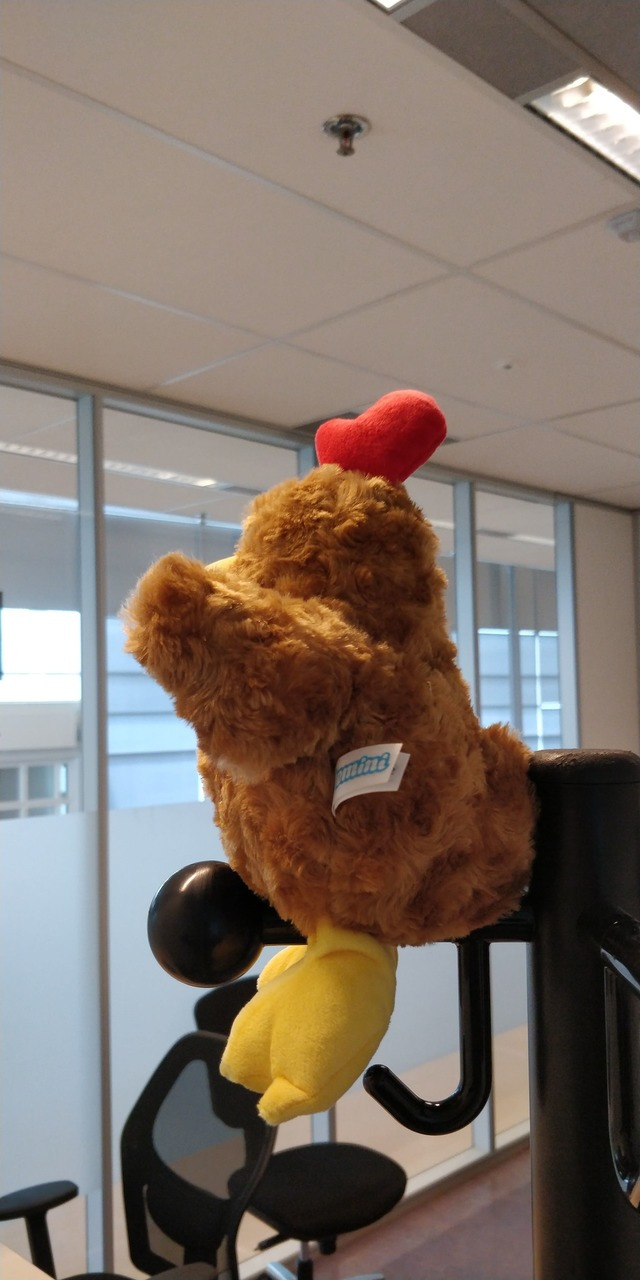fakeChicken: (114, 388, 537, 1127)
